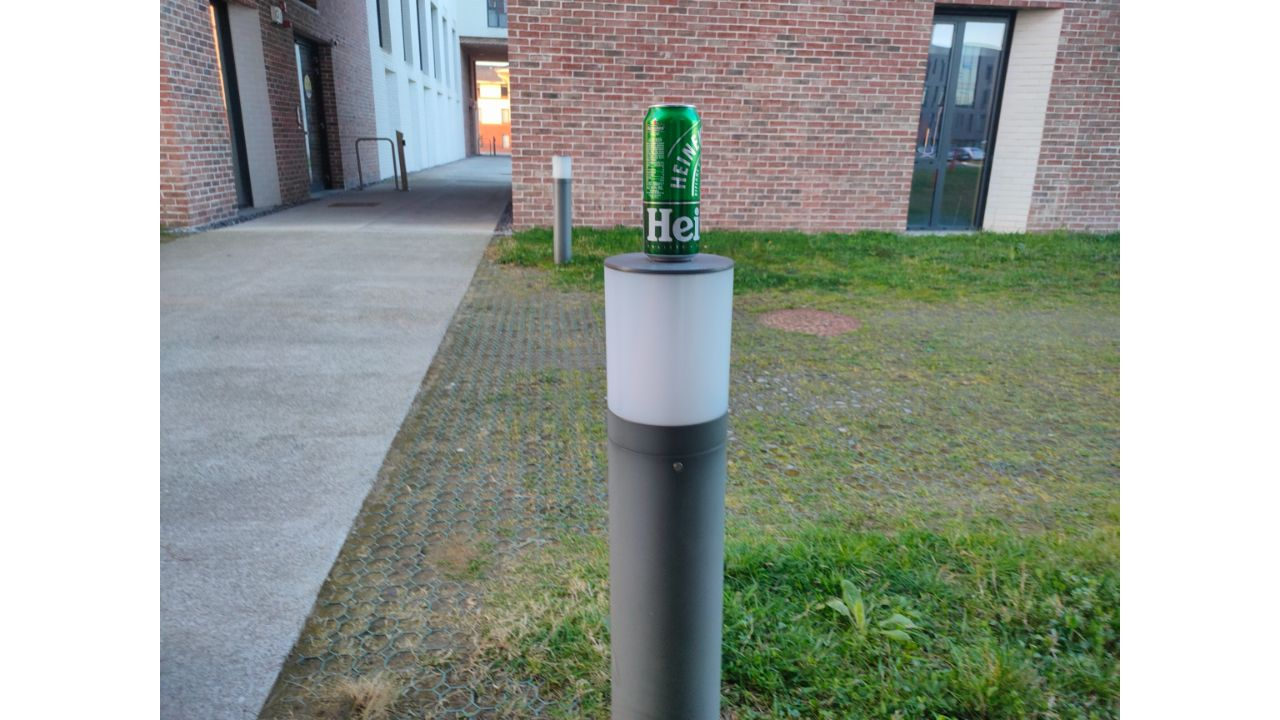Can: (642, 104, 703, 265)
